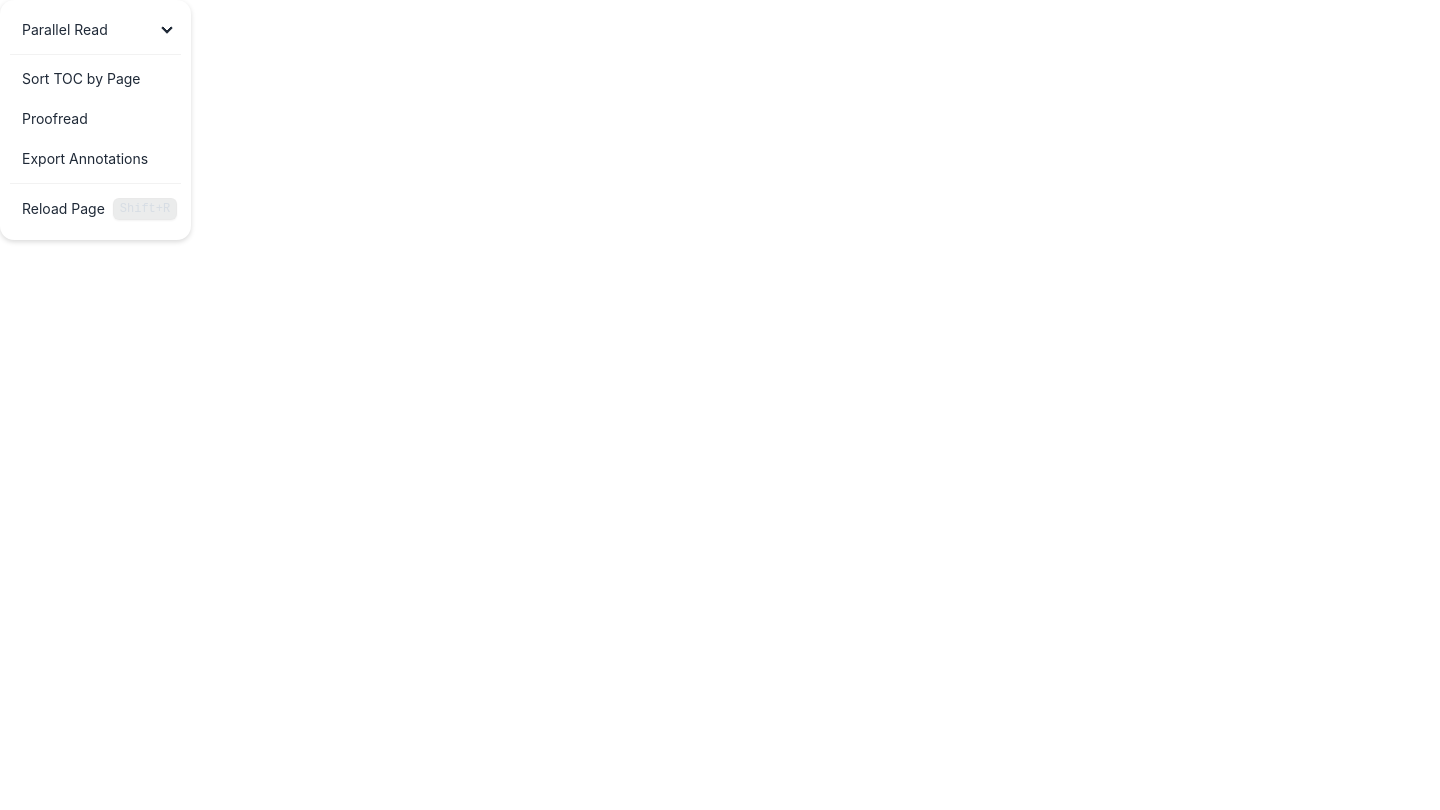
Test: ProofreadRulesManager › opens when BookMenu item is clicked (integration)
This screenshot has width=1440, height=810.
# Click the menu item
What coordinates should you click on to do the following:
click the menu item "Proofread"
I would click on:
 (96, 119)
Its box is x1=10 y1=99 x2=181 y2=139.
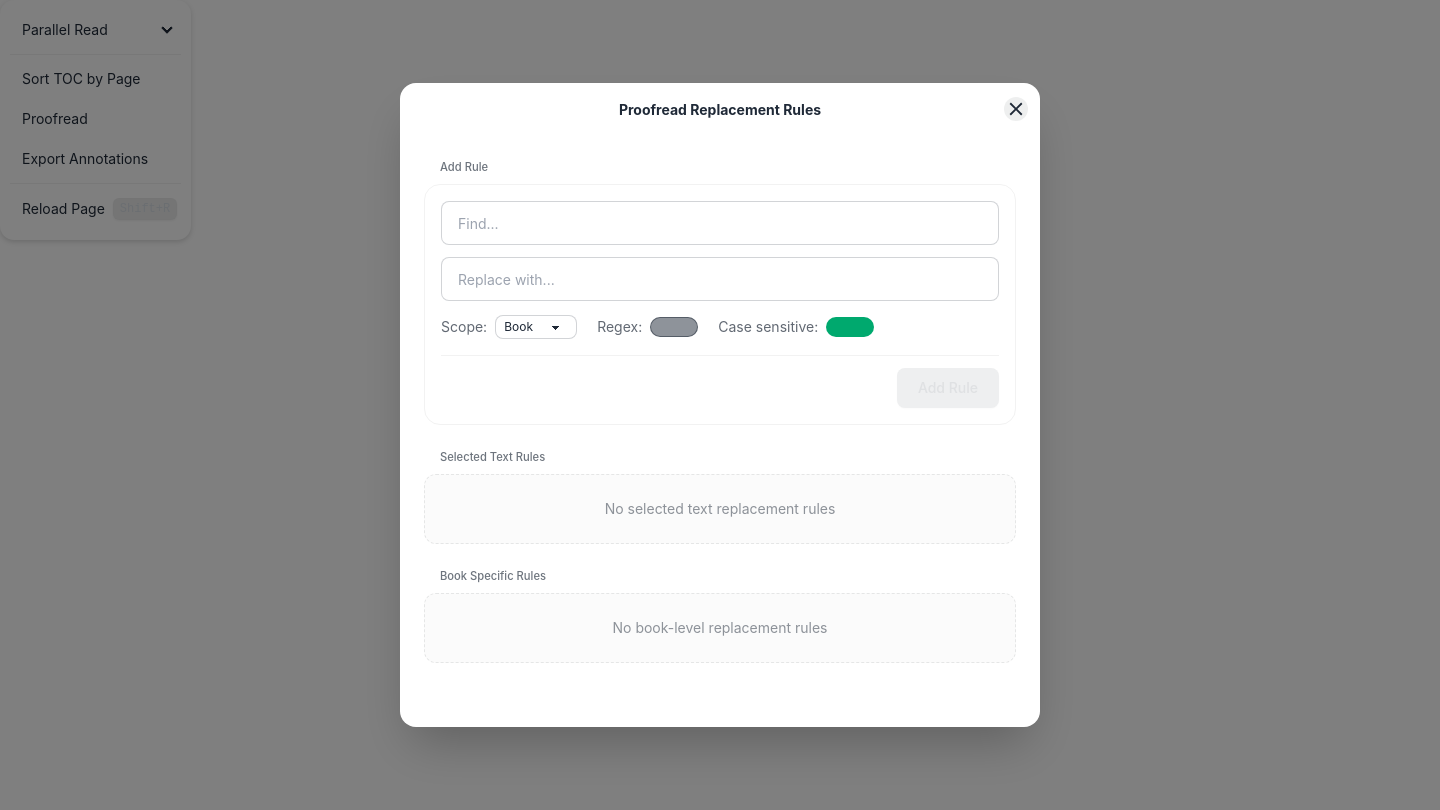
Result: the text "Proofread Replacement Rules" is shown at x1=619 y1=99 x2=821 y2=120
